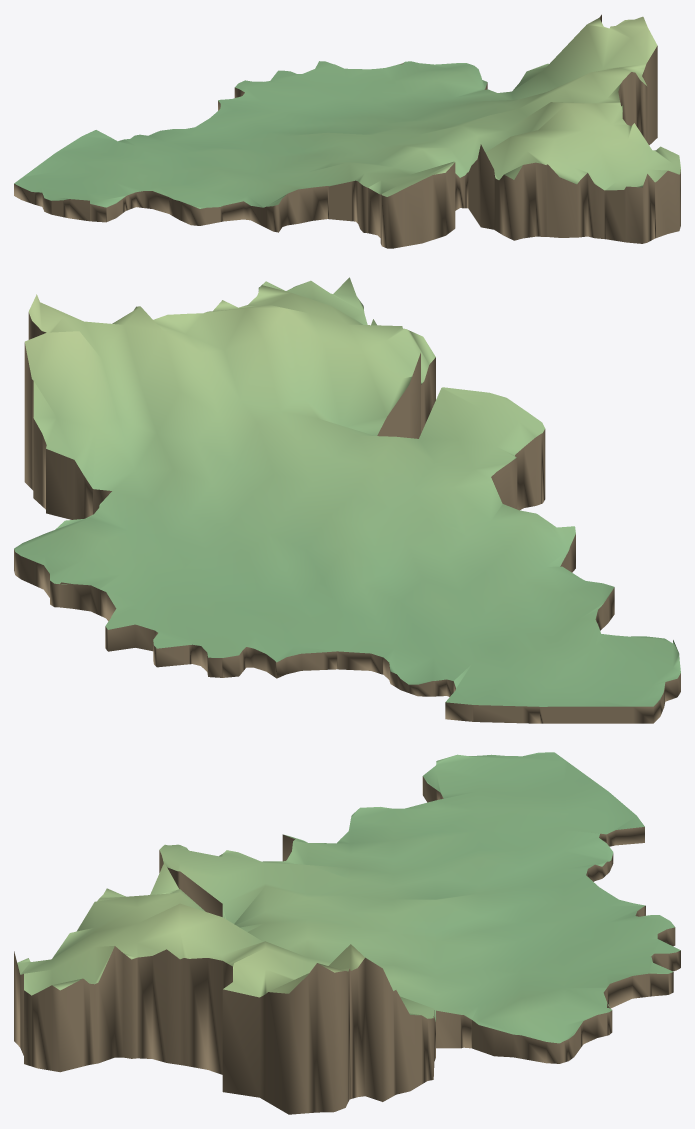
The model's file is BEL.glb.
3 renders of one model, top to bottom at view 1: azimuth 30°, elevation 25°; view 2: azimuth 150°, elevation 25°; view 3: azimuth 270°, elevation 25°, orthographic. The views are drawn at different scales.
Parts seen in each view (by area): view 1: BEL; view 2: BEL; view 3: BEL.
Boxes of the visible parts, left/top/right/bottom form: BEL: left=14, top=14, right=680, bottom=248; BEL: left=14, top=277, right=680, bottom=723; BEL: left=14, top=752, right=680, bottom=1114.
Size of the model in its own units: 1.68 by 0.338 by 1.37.
